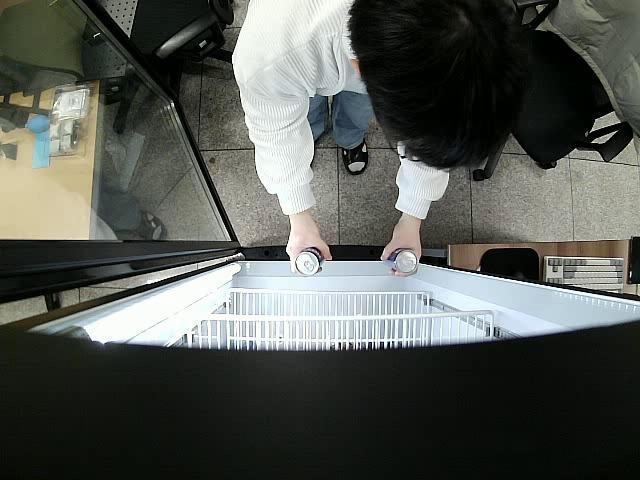16_hot6: (295, 246, 324, 275), (386, 248, 418, 274)
